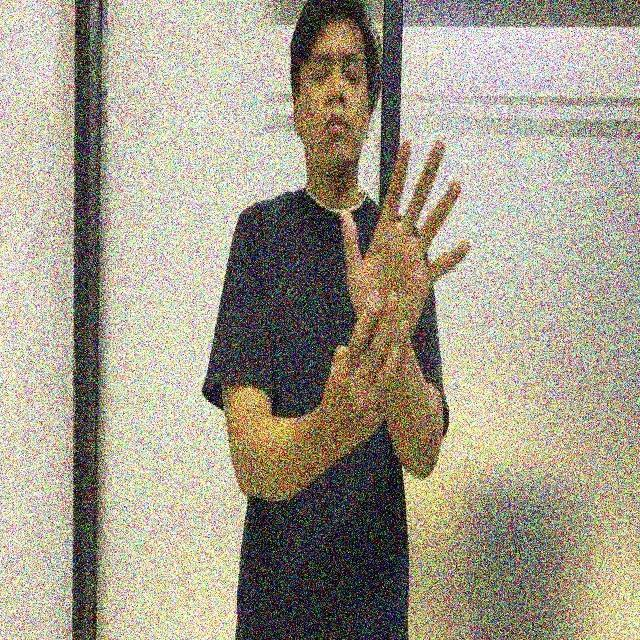M: (334, 131, 470, 398)
